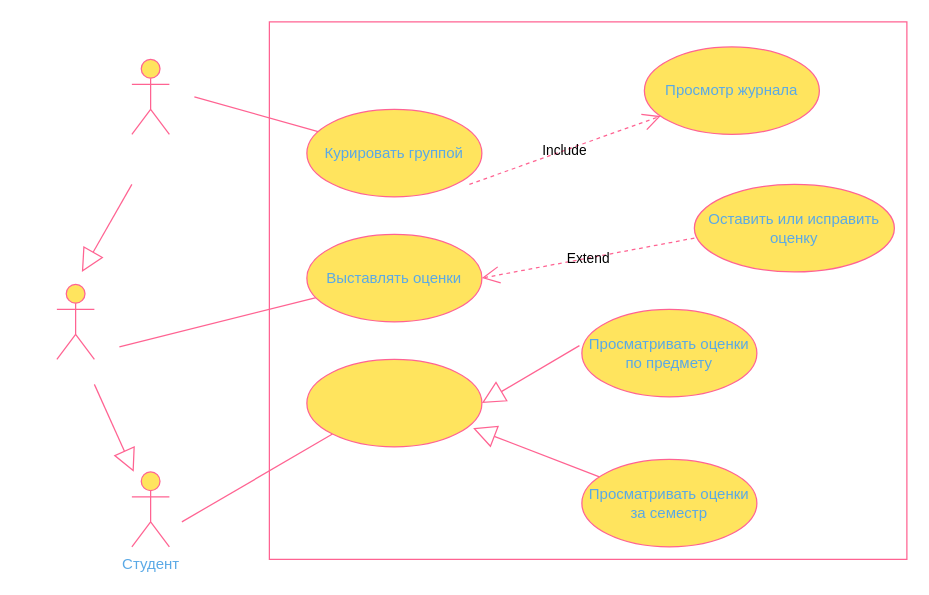
Some shapes in this 929 by 595 pixel diagram are drawn without their labels. The shapes that lost their labels are listed below. From the top down, each one's box as (x1, y1, x2, y2) in pixels, then its label:
(131, 58, 169, 134): Куратор
(56, 283, 94, 359): Преподаватель
(306, 358, 482, 447): Просматривать оценки
